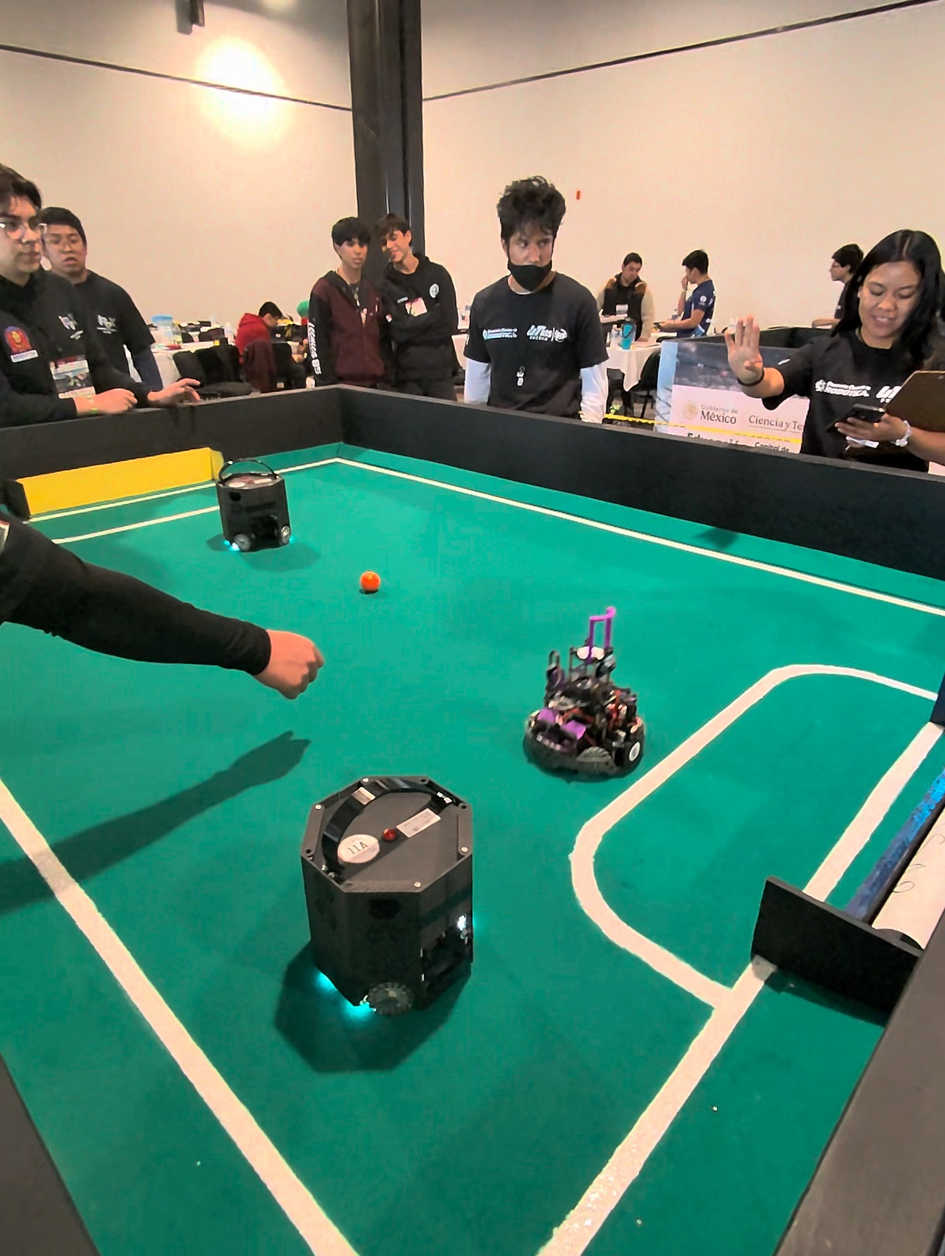Robot: (277, 743, 474, 1066), (524, 622, 644, 785), (215, 456, 297, 561)
pelota: (360, 570, 381, 590)
